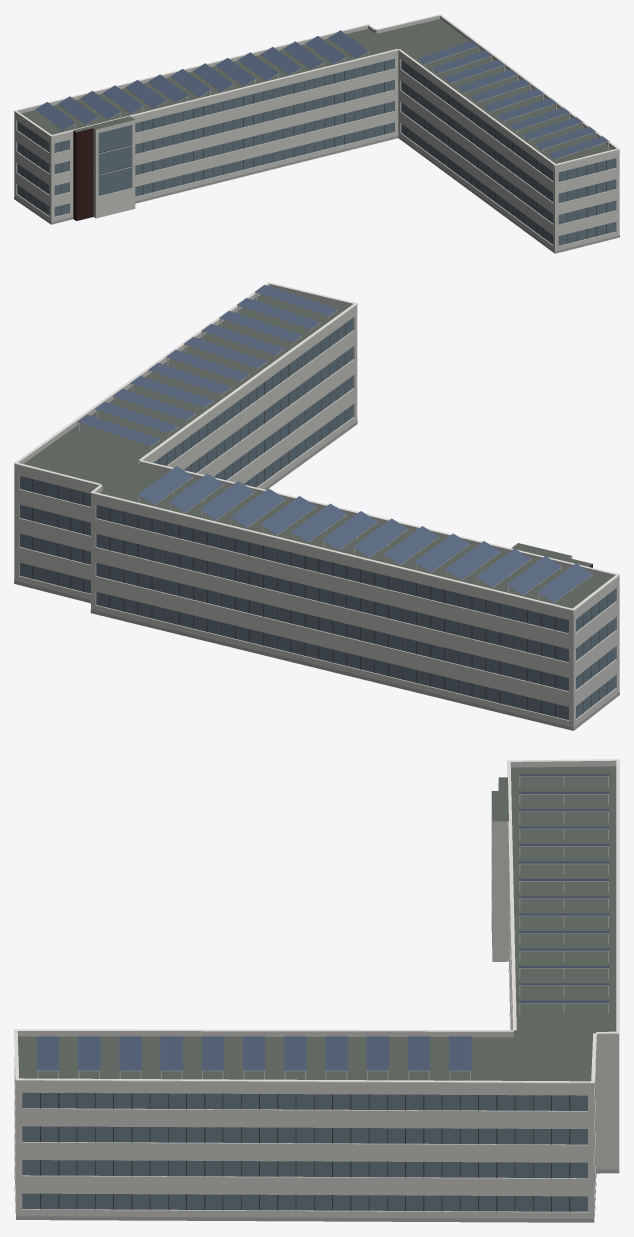
3 renders of one model, top to bottom at view 1: azimuth 30°, elevation 25°; view 2: azimuth 150°, elevation 25°; view 3: azimuth 270°, elevation 25°, orthographic. The views are drawn at different scales.
Parts seen in each view (by area): view 1: lecture4__wall, lecture4__glass, lecture4__pvPanel, lecture4__roof, lecture4__parapet, lecture4__trim, lecture4__frame, lecture4__accent, lecture4__pvFrame, lecture4__base; view 2: lecture4__wall, lecture4__glass, lecture4__pvPanel, lecture4__roof, lecture4__parapet, lecture4__trim, lecture4__frame, lecture4__base, lecture4__pvFrame; view 3: lecture4__wall, lecture4__roof, lecture4__glass, lecture4__pvPanel, lecture4__parapet, lecture4__trim, lecture4__pvFrame, lecture4__frame, lecture4__base.
Part boxes in pixels (bbox=[...]): lecture4__wall: bbox=[14, 53, 619, 253]; lecture4__glass: bbox=[17, 58, 615, 245]; lecture4__pvPanel: bbox=[35, 30, 608, 158]; lecture4__roof: bbox=[21, 19, 612, 163]; lecture4__parapet: bbox=[14, 15, 619, 168]; lecture4__trim: bbox=[14, 14, 619, 165]; lecture4__frame: bbox=[23, 61, 606, 243]; lecture4__accent: bbox=[73, 128, 93, 220]; lecture4__pvFrame: bbox=[35, 38, 608, 161]; lecture4__base: bbox=[14, 136, 619, 253]; lecture4__wall: bbox=[14, 308, 619, 730]; lecture4__glass: bbox=[19, 318, 615, 719]; lecture4__pvPanel: bbox=[77, 285, 592, 602]; lecture4__roof: bbox=[23, 294, 610, 608]; lecture4__parapet: bbox=[14, 284, 619, 614]; lecture4__trim: bbox=[14, 282, 619, 610]; lecture4__frame: bbox=[32, 323, 607, 717]; lecture4__base: bbox=[14, 421, 619, 730]; lecture4__pvFrame: bbox=[77, 292, 592, 603]; lecture4__wall: bbox=[14, 792, 619, 1218]; lecture4__roof: bbox=[18, 766, 616, 1081]; lecture4__glass: bbox=[22, 1092, 587, 1211]; lecture4__pvPanel: bbox=[36, 774, 609, 1070]; lecture4__parapet: bbox=[16, 760, 619, 1088]; lecture4__trim: bbox=[14, 759, 619, 1083]; lecture4__pvFrame: bbox=[37, 776, 609, 1080]; lecture4__frame: bbox=[40, 1093, 570, 1211]; lecture4__base: bbox=[14, 969, 619, 1222].
Bounding box in the file's own units: 74.34 × 15.65 × 58.82.
10 materials, 1 textured.
